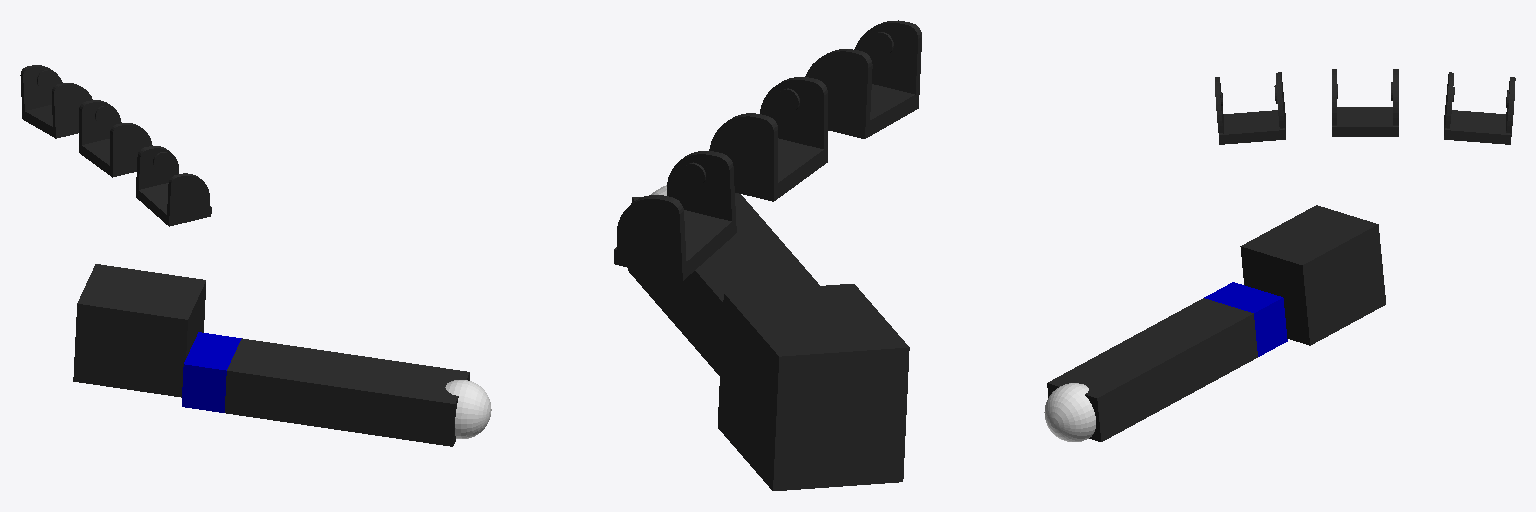
robot.urdf — allegro_hand_left:
<?xml version="1.0" ?>
<!-- =================================================================================== -->
<!-- |    This document was autogenerated by xacro from allegro_hand_description_left.xacro | -->
<!-- |    EDITING THIS FILE BY HAND IS NOT RECOMMENDED                                 | -->
<!-- =================================================================================== -->
<robot name="allegro_hand_left" xmlns:xacro="http://www.ros.org/wiki/xacro">
  <!-- ======================== BASE PARAMS ========================= -->
  <!-- ======================== FINGER PARAMS ======================== -->
  <!-- full height from joint to tip. when used,
the radius of the finger tip sphere will be subtracted
and one fixed link will be added for the tip. -->
  <!-- ========================= THUMB PARAMS ========================= -->
  <!-- ========================= LIMITS ========================= -->
  <!-- ============================================================================= -->
  <!-- ============================================================================= -->
  <!-- ============================================================================= -->
  <!-- BASE -->
  <link name="base_link">
    <visual>
      <geometry>
        <mesh filename="package://allegro_hand_description/meshes/base_link_left.STL"/>
        <!--     drawing  estimate  estimate  -->
        <!--<box size="0.0408 0.1130 ${base_link_z}"/> -->
      </geometry>
      <!--<origin rpy="0 0 0" xyz="-0.009300 0 -${base_link_z/2}"/>-->
      <origin rpy="-1.5707963259 0 0" xyz="0 0 0"/>
      <material name="black">
        <color rgba="0.2 0.2 0.2 1"/>
      </material>
    </visual>
    <collision>
      <geometry>
        <!--     drawing  estimate  estimate  -->
        <box size="0.0408 0.1130 0.095"/>
      </geometry>
      <origin rpy="0 0 0" xyz="-0.009300 0 -0.0475"/>
      <material name="black">
        <color rgba="0.2 0.2 0.2 1"/>
      </material>
    </collision>
  </link>
  <!-- ============================================================================= -->
  <!-- FINGERS -->
  <!--  LEFT HAND due to which finger is number 0 -->
  <!-- ALSO POSITIVE DIRECTIONS MAY HAVE TO CHANGE -->
  <link name="link_0.0">
    <visual>
      <geometry>
        <mesh filename="package://allegro_hand_description/meshes/link_0.0.STL"/>
        <!--<box size="${links_x} ${links_y} ${link0_z}"/>-->
      </geometry>
      <!--<origin rpy="0 0 0" xyz="0 0 ${link0_z/2}"/>-->
      <material name="black"/>
    </visual>
    <collision>
      <geometry>
        <box size="0.0196 0.0275 0.0164"/>
      </geometry>
      <origin rpy="0 0 0" xyz="0 0 0.0082"/>
    </collision>
  </link>
  <joint name="joint_0.0" type="revolute">
    <axis xyz="0 0 1"/>
    <limit effort="0" lower="-0.47" upper="0.47" velocity="0"/>
    <parent link="base_link"/>
    <child link="link_0.0"/>
    <origin rpy="0.08726646255 0 0" xyz="0 -0.044981 -0.002298"/>
  </joint>
  <link name="link_1.0">
    <visual>
      <geometry>
        <mesh filename="package://allegro_hand_description/meshes/link_1.0.STL"/>
        <!--<box size="${links_x} ${links_y} ${link1_z}"/>-->
      </geometry>
      <!--<origin rpy="0 0 0" xyz="0 0 ${link1_z/2}"/>-->
      <material name="black"/>
    </visual>
    <collision>
      <geometry>
        <box size="0.0196 0.0275 0.054"/>
      </geometry>
      <origin rpy="0 0 0" xyz="0 0 0.027"/>
    </collision>
  </link>
  <joint name="joint_1.0" type="revolute">
    <limit effort="0" lower="-0.196" upper="1.61" velocity="0"/>
    <axis xyz="0 1 0"/>
    <parent link="link_0.0"/>
    <child link="link_1.0"/>
    <origin xyz="0 0 0.0164"/>
  </joint>
  <link name="link_2.0">
    <visual>
      <geometry>
        <mesh filename="package://allegro_hand_description/meshes/link_2.0.STL"/>
        <!--<box size="${links_x} ${links_y} ${link2_z}"/>-->
      </geometry>
      <!--<origin rpy="0 0 0" xyz="0 0 ${link2_z/2}"/>-->
      <material name="black"/>
    </visual>
    <collision>
      <geometry>
        <box size="0.0196 0.0275 0.0384"/>
      </geometry>
      <origin rpy="0 0 0" xyz="0 0 0.0192"/>
    </collision>
  </link>
  <joint name="joint_2.0" type="revolute">
    <axis xyz="0 1 0"/>
    <limit effort="0" lower="-0.174" upper="1.709" velocity="0"/>
    <parent link="link_1.0"/>
    <child link="link_2.0"/>
    <origin xyz="0 0 0.054"/>
  </joint>
  <link name="link_3.0">
    <visual>
      <geometry>
        <mesh filename="package://allegro_hand_description/meshes/link_3.0.STL"/>
        <!--<box size="${links_x} ${links_y} ${link3_z-fingerTip_r}"/>-->
      </geometry>
      <!--<origin rpy="0 0 0" xyz="0 0 ${(link3_z-fingerTip_r)/2}"/>-->
      <material name="black"/>
    </visual>
    <collision>
      <geometry>
        <box size="0.0196 0.0275 0.0267"/>
      </geometry>
      <origin rpy="0 0 0" xyz="0 0 0.01335"/>
    </collision>
  </link>
  <joint name="joint_3.0" type="revolute">
    <axis xyz="0 1 0"/>
    <limit effort="0" lower="-0.227" upper="1.618" velocity="0"/>
    <parent link="link_2.0"/>
    <child link="link_3.0"/>
    <origin xyz="0 0 0.0384"/>
  </joint>
  <link name="link_3.0_tip">
    <visual>
      <geometry>
        <mesh filename="package://allegro_hand_description/meshes/link_3.0_tip.STL"/>
        <!--<sphere radius="${fingerTip_r}"/>-->
      </geometry>
      <!--<origin rpy="0 0 0" xyz="0 0 ${link3_z-fingerTip_r}"/>-->
      <material name="white">
        <color rgba=".9 .9 .9 1"/>
      </material>
    </visual>
    <collision>
      <geometry>
        <sphere radius="0.012"/>
      </geometry>
    </collision>
  </link>
  <joint name="joint_3.0_tip" type="fixed">
    <parent link="link_3.0"/>
    <child link="link_3.0_tip"/>
    <origin rpy="0 0 0" xyz="0 0 0.0267"/>
  </joint>
  <link name="link_4.0">
    <visual>
      <geometry>
        <mesh filename="package://allegro_hand_description/meshes/link_0.0.STL"/>
        <!--<box size="${links_x} ${links_y} ${link0_z}"/>-->
      </geometry>
      <!--<origin rpy="0 0 0" xyz="0 0 ${link0_z/2}"/>-->
      <material name="black"/>
    </visual>
    <collision>
      <geometry>
        <box size="0.0196 0.0275 0.0164"/>
      </geometry>
      <origin rpy="0 0 0" xyz="0 0 0.0082"/>
    </collision>
  </link>
  <joint name="joint_4.0" type="revolute">
    <axis xyz="0 0 1"/>
    <limit effort="0" lower="-0.47" upper="0.47" velocity="0"/>
    <parent link="base_link"/>
    <child link="link_4.0"/>
    <origin rpy="0.0 0 0" xyz="0 0 0"/>
  </joint>
  <link name="link_5.0">
    <visual>
      <geometry>
        <mesh filename="package://allegro_hand_description/meshes/link_1.0.STL"/>
        <!--<box size="${links_x} ${links_y} ${link1_z}"/>-->
      </geometry>
      <!--<origin rpy="0 0 0" xyz="0 0 ${link1_z/2}"/>-->
      <material name="black"/>
    </visual>
    <collision>
      <geometry>
        <box size="0.0196 0.0275 0.054"/>
      </geometry>
      <origin rpy="0 0 0" xyz="0 0 0.027"/>
    </collision>
  </link>
  <joint name="joint_5.0" type="revolute">
    <limit effort="0" lower="-0.196" upper="1.61" velocity="0"/>
    <axis xyz="0 1 0"/>
    <parent link="link_4.0"/>
    <child link="link_5.0"/>
    <origin xyz="0 0 0.0164"/>
  </joint>
  <link name="link_6.0">
    <visual>
      <geometry>
        <mesh filename="package://allegro_hand_description/meshes/link_2.0.STL"/>
        <!--<box size="${links_x} ${links_y} ${link2_z}"/>-->
      </geometry>
      <!--<origin rpy="0 0 0" xyz="0 0 ${link2_z/2}"/>-->
      <material name="black"/>
    </visual>
    <collision>
      <geometry>
        <box size="0.0196 0.0275 0.0384"/>
      </geometry>
      <origin rpy="0 0 0" xyz="0 0 0.0192"/>
    </collision>
  </link>
  <joint name="joint_6.0" type="revolute">
    <axis xyz="0 1 0"/>
    <limit effort="0" lower="-0.174" upper="1.709" velocity="0"/>
    <parent link="link_5.0"/>
    <child link="link_6.0"/>
    <origin xyz="0 0 0.054"/>
  </joint>
  <link name="link_7.0">
    <visual>
      <geometry>
        <mesh filename="package://allegro_hand_description/meshes/link_3.0.STL"/>
        <!--<box size="${links_x} ${links_y} ${link3_z-fingerTip_r}"/>-->
      </geometry>
      <!--<origin rpy="0 0 0" xyz="0 0 ${(link3_z-fingerTip_r)/2}"/>-->
      <material name="black"/>
    </visual>
    <collision>
      <geometry>
        <box size="0.0196 0.0275 0.0267"/>
      </geometry>
      <origin rpy="0 0 0" xyz="0 0 0.01335"/>
    </collision>
  </link>
  <joint name="joint_7.0" type="revolute">
    <axis xyz="0 1 0"/>
    <limit effort="0" lower="-0.227" upper="1.618" velocity="0"/>
    <parent link="link_6.0"/>
    <child link="link_7.0"/>
    <origin xyz="0 0 0.0384"/>
  </joint>
  <link name="link_7.0_tip">
    <visual>
      <geometry>
        <mesh filename="package://allegro_hand_description/meshes/link_3.0_tip.STL"/>
        <!--<sphere radius="${fingerTip_r}"/>-->
      </geometry>
      <!--<origin rpy="0 0 0" xyz="0 0 ${link3_z-fingerTip_r}"/>-->
      <material name="white">
        <color rgba=".9 .9 .9 1"/>
      </material>
    </visual>
    <collision>
      <geometry>
        <sphere radius="0.012"/>
      </geometry>
    </collision>
  </link>
  <joint name="joint_7.0_tip" type="fixed">
    <parent link="link_7.0"/>
    <child link="link_7.0_tip"/>
    <origin rpy="0 0 0" xyz="0 0 0.0267"/>
  </joint>
  <link name="link_8.0">
    <visual>
      <geometry>
        <mesh filename="package://allegro_hand_description/meshes/link_0.0.STL"/>
        <!--<box size="${links_x} ${links_y} ${link0_z}"/>-->
      </geometry>
      <!--<origin rpy="0 0 0" xyz="0 0 ${link0_z/2}"/>-->
      <material name="black"/>
    </visual>
    <collision>
      <geometry>
        <box size="0.0196 0.0275 0.0164"/>
      </geometry>
      <origin rpy="0 0 0" xyz="0 0 0.0082"/>
    </collision>
  </link>
  <joint name="joint_8.0" type="revolute">
    <axis xyz="0 0 1"/>
    <limit effort="0" lower="-0.47" upper="0.47" velocity="0"/>
    <parent link="base_link"/>
    <child link="link_8.0"/>
    <origin rpy="-0.08726646255 0 0" xyz="0 0.044981 -0.002298"/>
  </joint>
  <link name="link_9.0">
    <visual>
      <geometry>
        <mesh filename="package://allegro_hand_description/meshes/link_1.0.STL"/>
        <!--<box size="${links_x} ${links_y} ${link1_z}"/>-->
      </geometry>
      <!--<origin rpy="0 0 0" xyz="0 0 ${link1_z/2}"/>-->
      <material name="black"/>
    </visual>
    <collision>
      <geometry>
        <box size="0.0196 0.0275 0.054"/>
      </geometry>
      <origin rpy="0 0 0" xyz="0 0 0.027"/>
    </collision>
  </link>
  <joint name="joint_9.0" type="revolute">
    <limit effort="0" lower="-0.196" upper="1.61" velocity="0"/>
    <axis xyz="0 1 0"/>
    <parent link="link_8.0"/>
    <child link="link_9.0"/>
    <origin xyz="0 0 0.0164"/>
  </joint>
  <link name="link_10.0">
    <visual>
      <geometry>
        <mesh filename="package://allegro_hand_description/meshes/link_2.0.STL"/>
        <!--<box size="${links_x} ${links_y} ${link2_z}"/>-->
      </geometry>
      <!--<origin rpy="0 0 0" xyz="0 0 ${link2_z/2}"/>-->
      <material name="black"/>
    </visual>
    <collision>
      <geometry>
        <box size="0.0196 0.0275 0.0384"/>
      </geometry>
      <origin rpy="0 0 0" xyz="0 0 0.0192"/>
    </collision>
  </link>
  <joint name="joint_10.0" type="revolute">
    <axis xyz="0 1 0"/>
    <limit effort="0" lower="-0.174" upper="1.709" velocity="0"/>
    <parent link="link_9.0"/>
    <child link="link_10.0"/>
    <origin xyz="0 0 0.054"/>
  </joint>
  <link name="link_11.0">
    <visual>
      <geometry>
        <mesh filename="package://allegro_hand_description/meshes/link_3.0.STL"/>
        <!--<box size="${links_x} ${links_y} ${link3_z-fingerTip_r}"/>-->
      </geometry>
      <!--<origin rpy="0 0 0" xyz="0 0 ${(link3_z-fingerTip_r)/2}"/>-->
      <material name="black"/>
    </visual>
    <collision>
      <geometry>
        <box size="0.0196 0.0275 0.0267"/>
      </geometry>
      <origin rpy="0 0 0" xyz="0 0 0.01335"/>
    </collision>
  </link>
  <joint name="joint_11.0" type="revolute">
    <axis xyz="0 1 0"/>
    <limit effort="0" lower="-0.227" upper="1.618" velocity="0"/>
    <parent link="link_10.0"/>
    <child link="link_11.0"/>
    <origin xyz="0 0 0.0384"/>
  </joint>
  <link name="link_11.0_tip">
    <visual>
      <geometry>
        <mesh filename="package://allegro_hand_description/meshes/link_3.0_tip.STL"/>
        <!--<sphere radius="${fingerTip_r}"/>-->
      </geometry>
      <!--<origin rpy="0 0 0" xyz="0 0 ${link3_z-fingerTip_r}"/>-->
      <material name="white">
        <color rgba=".9 .9 .9 1"/>
      </material>
    </visual>
    <collision>
      <geometry>
        <sphere radius="0.012"/>
      </geometry>
    </collision>
  </link>
  <joint name="joint_11.0_tip" type="fixed">
    <parent link="link_11.0"/>
    <child link="link_11.0_tip"/>
    <origin rpy="0 0 0" xyz="0 0 0.0267"/>
  </joint>
  <link name="link_12.0">
    <visual>
      <geometry>
        <box size="0.0358 0.034 0.0455"/>
      </geometry>
      <origin rpy="0 0 0" xyz="0.0091 -0.009 0.0145"/>
      <material name="black">
        <color rgba=".2 .2 .2 1"/>
      </material>
    </visual>
  </link>
  <joint name="joint_12.0" type="revolute">
    <axis xyz="1 0 0"/>
    <limit effort="0" lower="0.263" upper="1.396" velocity="0"/>
    <parent link="base_link"/>
    <child link="link_12.0"/>
    <origin rpy="0 -1.65806278845 1.5707963259" xyz="-0.0182 -0.0168753 -0.07308"/>
  </joint>
  <link name="link_13.0">
    <visual>
      <geometry>
        <box size="0.0196 0.0275 0.0177"/>
      </geometry>
      <origin rpy="0 0 0" xyz="0 0 0.00885"/>
      <material name="black">
        <color rgba="0 0 .8 1"/>
      </material>
    </visual>
  </link>
  <joint name="joint_13.0" type="revolute">
    <axis xyz="0 0 -1"/>
    <limit effort="0" lower="-0.105" upper="1.163" velocity="0"/>
    <parent link="link_12.0"/>
    <child link="link_13.0"/>
    <origin xyz="0 0 0.0375"/>
  </joint>
  <link name="link_14.0">
    <visual>
      <geometry>
        <box size="0.0196 0.0275 0.0514"/>
      </geometry>
      <origin rpy="0 0 0" xyz="0 0 0.0257"/>
      <material name="black">
      </material>
    </visual>
  </link>
  <joint name="joint_14.0" type="revolute">
    <axis xyz="0 1 0"/>
    <limit effort="0" lower="-0.189" upper="1.644" velocity="0"/>
    <parent link="link_13.0"/>
    <child link="link_14.0"/>
    <origin xyz="0 0 0.0177"/>
  </joint>
  <link name="link_15.0">
    <visual>
      <geometry>
        <box size="0.0196 0.0275 0.0423"/>
      </geometry>
      <origin rpy="0 0 0" xyz="0 0 0.02115"/>
      <material name="black">
      </material>
    </visual>
  </link>
  <joint name="joint_15.0" type="revolute">
    <axis xyz="0 1 0"/>
    <limit effort="0" lower="-0.162" upper="1.719" velocity="0"/>
    <parent link="link_14.0"/>
    <child link="link_15.0"/>
    <origin xyz="0 0 0.0514"/>
  </joint>
  <link name="link_15.0_tip">
    <visual>
      <geometry>
        <sphere radius="0.012"/>
      </geometry>
      <origin rpy="0 0 0" xyz="0 0 0.0423"/>
      <material name="white">
        <color rgba=".9 .9 .9 1"/>
      </material>
    </visual>
  </link>
  <joint name="joint_15.0_tip" type="fixed">
    <parent link="link_15.0"/>
    <child link="link_15.0_tip"/>
    <origin xyz="0 0 0"/>
  </joint>
  <!-- -${95*DEG2RAD}    ${180*DEG2RAD} -->
  <!-- ============================================================================= -->
  <!-- LEFT -->
  <!-- THUMB -->
  <!-- Write code for left and right with proper changes
	(using variables for like comps) and include as 2 macros
	include both and comment unused for right and left -->
  <!-- END LEFT -->
  <!-- ============================================================================= -->
  <!-- ============================================================================= -->
  <!-- ============================================================================= -->
  <!-- THUMB MACRO -->
  <!-- [[END]] THUMB MACRO -->
  <!-- THREE FINGER MACRO -->
  <!-- [[END]] THREE FINGER MACRO -->
</robot>

--- What the picture shows (computed from the rendered views, not written in the file) ---
The picture shows the robot from 3 angles, left to right: view 1: azimuth 30°, elevation 25°; view 2: azimuth 150°, elevation 25°; view 3: azimuth 270°, elevation 25°; orthographic projection.
Robot: allegro_hand_left — 21 links, 20 joints (16 revolute, 4 fixed); root link base_link; default pose: joints at zero except 1 at the middle of their limits (joint_12.0 = 0.8295).
Links seen in each view (by area): view 1: link_12.0, link_14.0, link_15.0, link_0.0, link_4.0, link_8.0, link_13.0, link_15.0_tip; view 2: link_12.0, link_8.0, link_4.0, link_0.0, link_14.0, link_15.0; view 3: link_12.0, link_14.0, link_15.0, link_13.0, link_8.0, link_0.0, link_4.0, link_15.0_tip.
Boxes of the visible links, bbox=[...] form: link_12.0: bbox=[73, 264, 205, 397]; link_14.0: bbox=[225, 338, 366, 431]; link_15.0: bbox=[350, 357, 469, 446]; link_0.0: bbox=[136, 146, 211, 226]; link_4.0: bbox=[79, 100, 152, 177]; link_8.0: bbox=[20, 65, 92, 138]; link_13.0: bbox=[182, 332, 241, 412]; link_15.0_tip: bbox=[445, 380, 491, 438]; link_12.0: bbox=[718, 284, 909, 490]; link_8.0: bbox=[614, 151, 736, 280]; link_4.0: bbox=[709, 77, 827, 201]; link_0.0: bbox=[805, 20, 921, 138]; link_14.0: bbox=[680, 249, 819, 375]; link_15.0: bbox=[628, 193, 787, 329]; link_12.0: bbox=[1240, 205, 1385, 345]; link_14.0: bbox=[1118, 298, 1257, 403]; link_15.0: bbox=[1047, 345, 1171, 441]; link_13.0: bbox=[1204, 282, 1287, 356]; link_8.0: bbox=[1444, 72, 1515, 144]; link_0.0: bbox=[1215, 72, 1285, 144]; link_4.0: bbox=[1332, 69, 1398, 136]; link_15.0_tip: bbox=[1044, 383, 1095, 441].
Size in the robot's own frame: 0.1333 by 0.1895 by 0.1181 metres.
Meshes: 6 distinct files referenced, 3 mesh visuals loaded (1 binary STL); not drawn: 13 (reference not matched to a file when rendering).